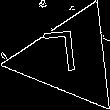L_S: (49, 31, 89, 85)
